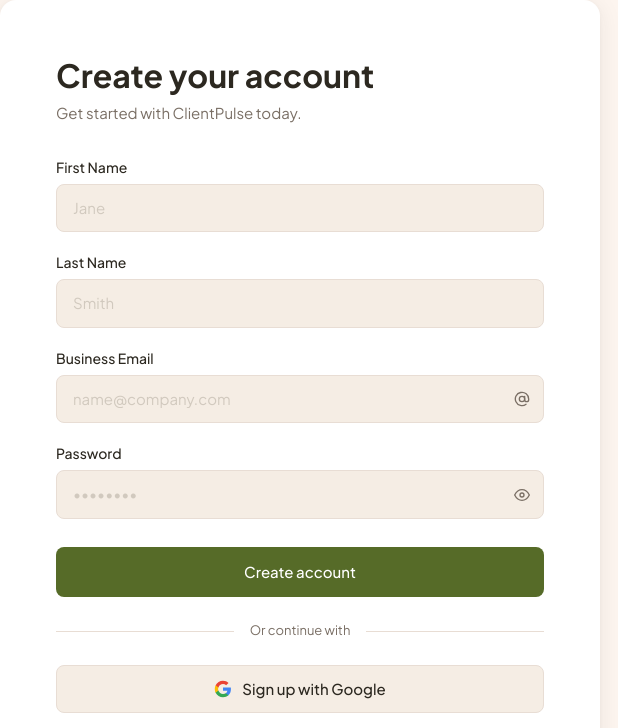
Test case: RegistrationForm › should show verification message and not set user when status is not complete
What coordinates should you click on to do the following:
click the button "Create account"
I would click on:
 (300, 572)
Its box is [56, 547, 544, 597].
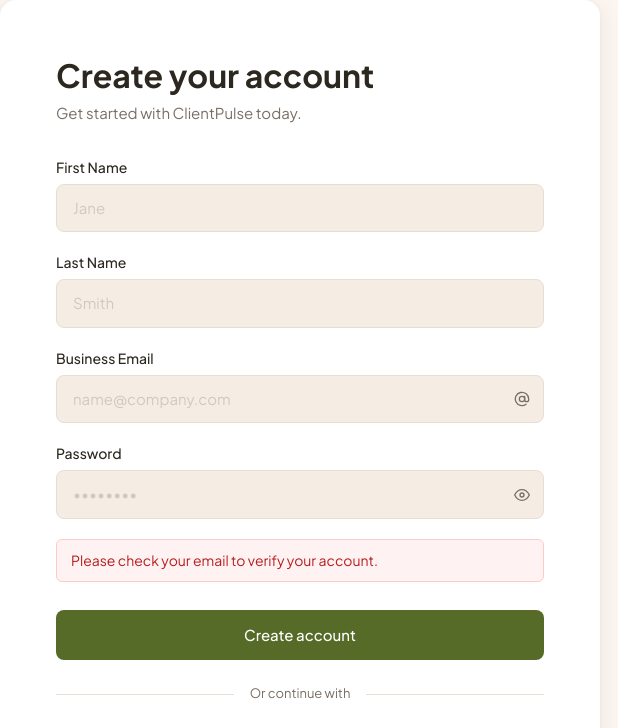
Result: the message reads "Please check your email to verify your account." at [71, 551, 378, 569]
